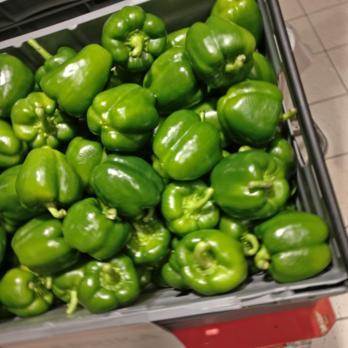Capsicum: (2, 159, 326, 287), (0, 59, 282, 155), (96, 0, 266, 64)
